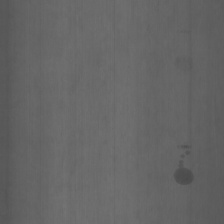oil_spot: (171, 146, 198, 192)
